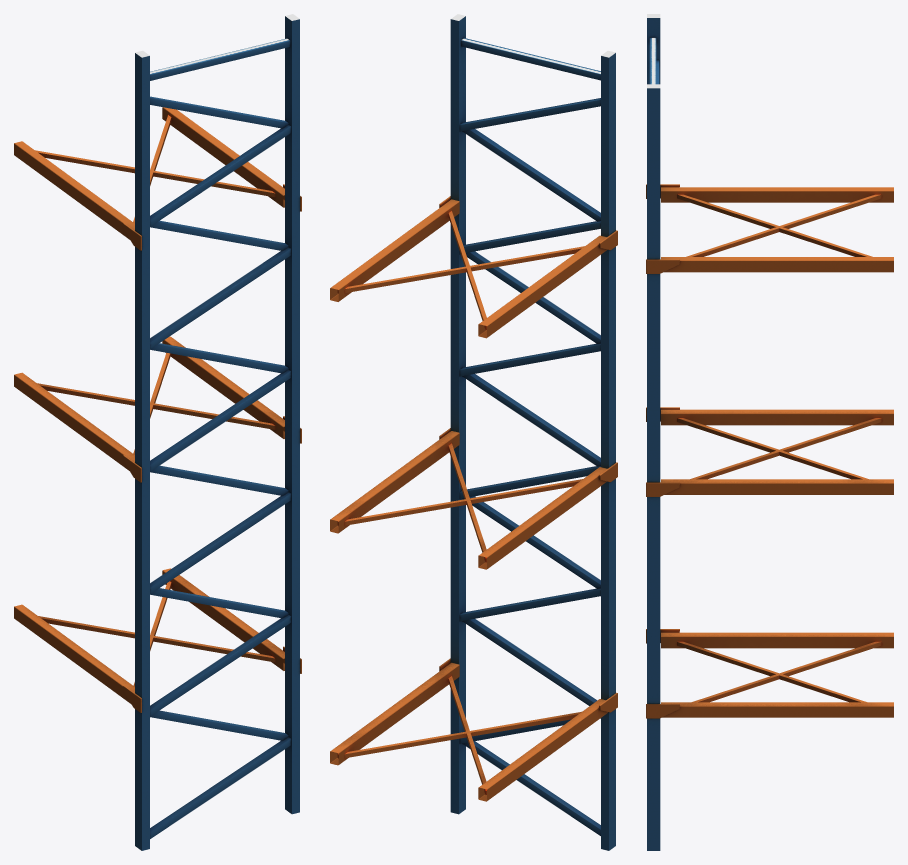
Rendered from shelves.serva.3340-2.obj.
The picture shows the model from 3 angles, left to right: view 1: azimuth 30°, elevation 25°; view 2: azimuth 150°, elevation 25°; view 3: azimuth 270°, elevation 25°; orthographic projection. The views are drawn at different scales.
Visible parts, largest first — view 1: ____01; view 2: ____01; view 3: ____01.
Part boxes in pixels (x1,y1,x2,y2): ____01: (14, 14, 301, 850); ____01: (330, 14, 617, 850); ____01: (646, 14, 893, 850).
Bounding box in the file's own units: 145 × 680 × 200.
